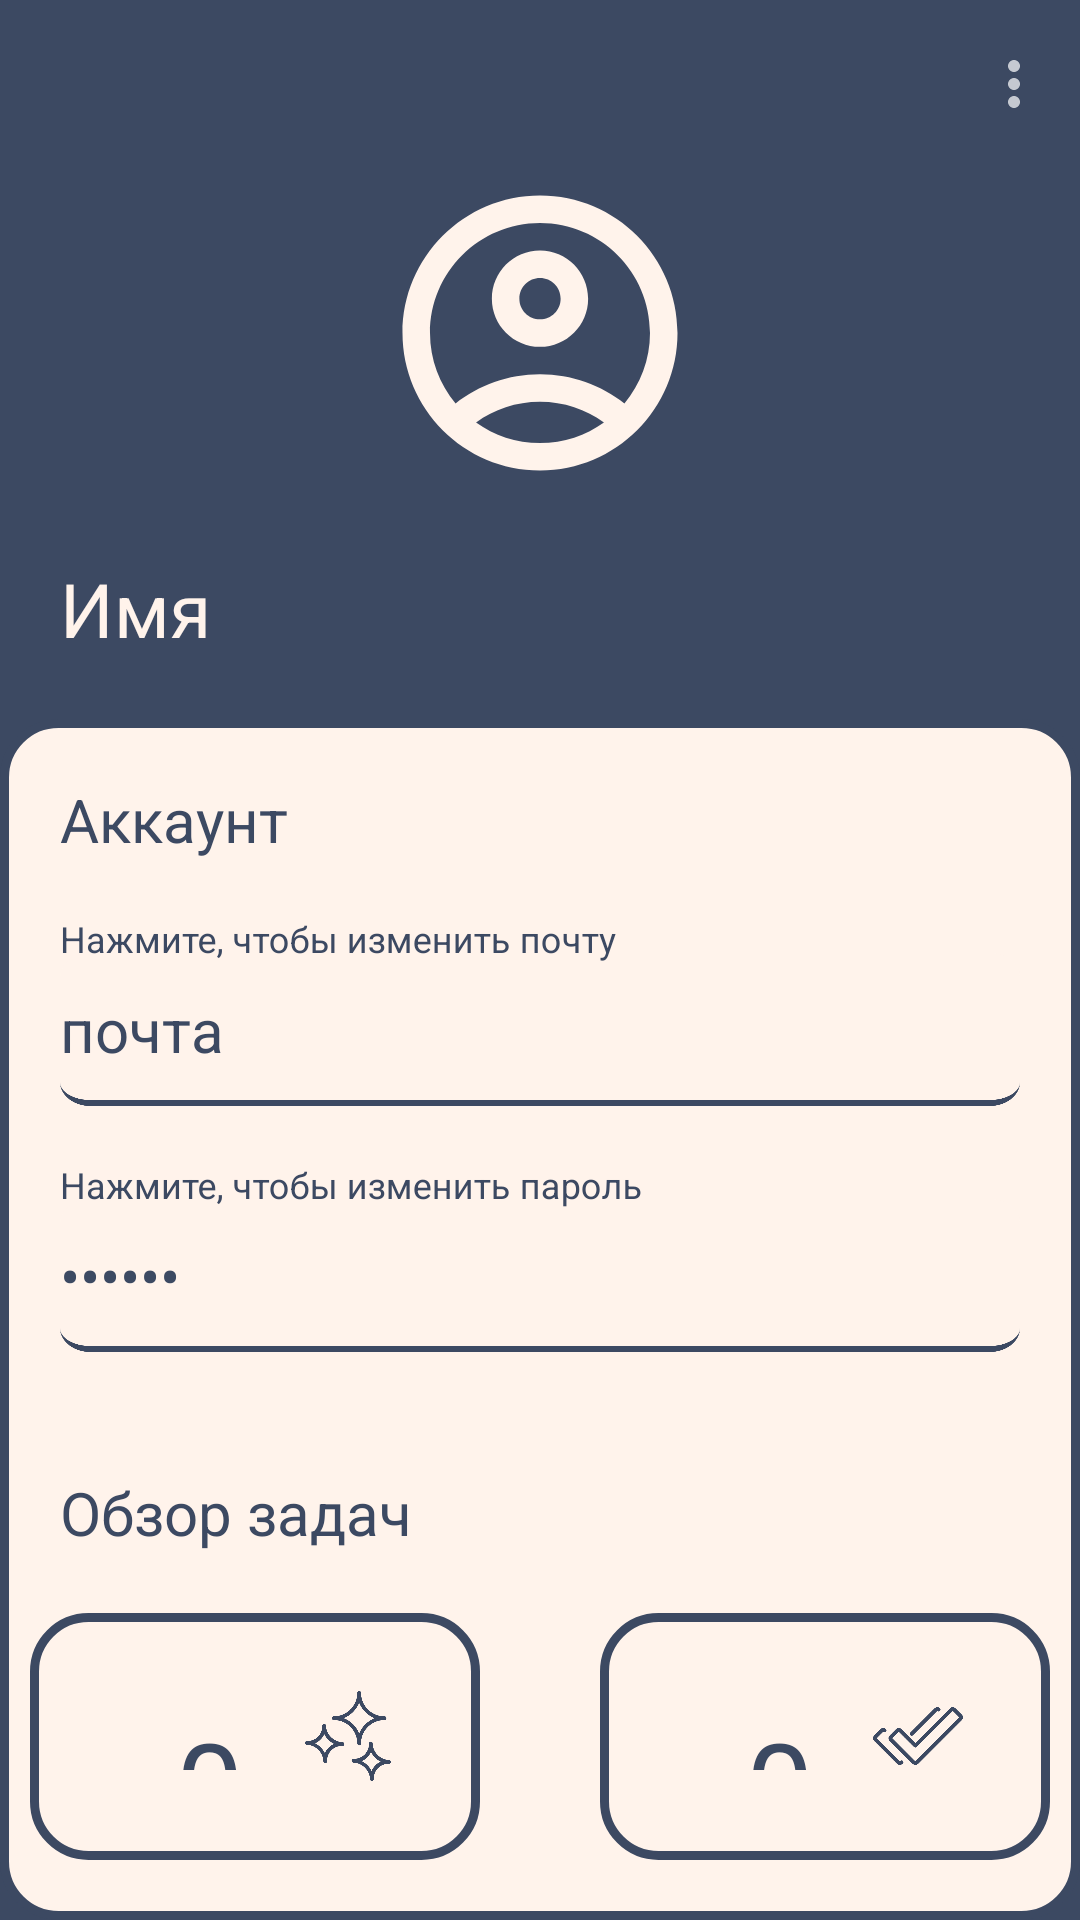

Where icons sit on this 1080w x 1920h app screen, as (x1, y1, x2, y2):
account circle: (402, 195, 678, 471)
